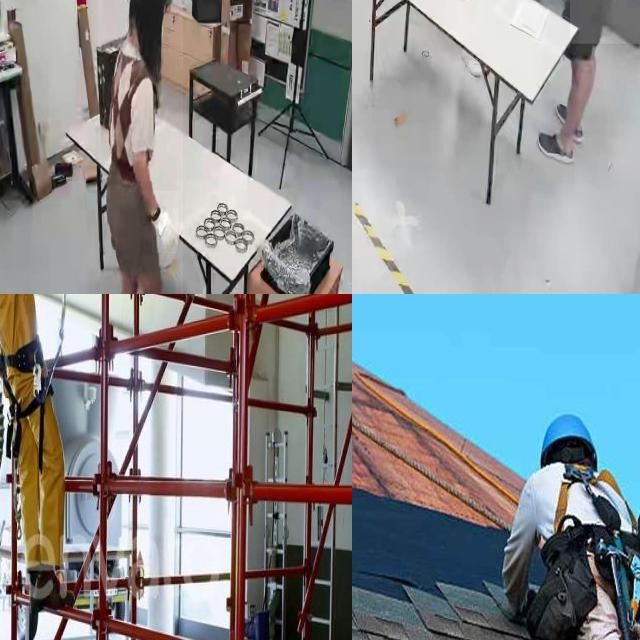Harness: (535, 464, 640, 640), (0, 336, 53, 470)
hand_glove: (152, 190, 178, 253)
person: (98, 0, 183, 294)
shoes: (533, 129, 576, 167), (554, 101, 584, 143)
